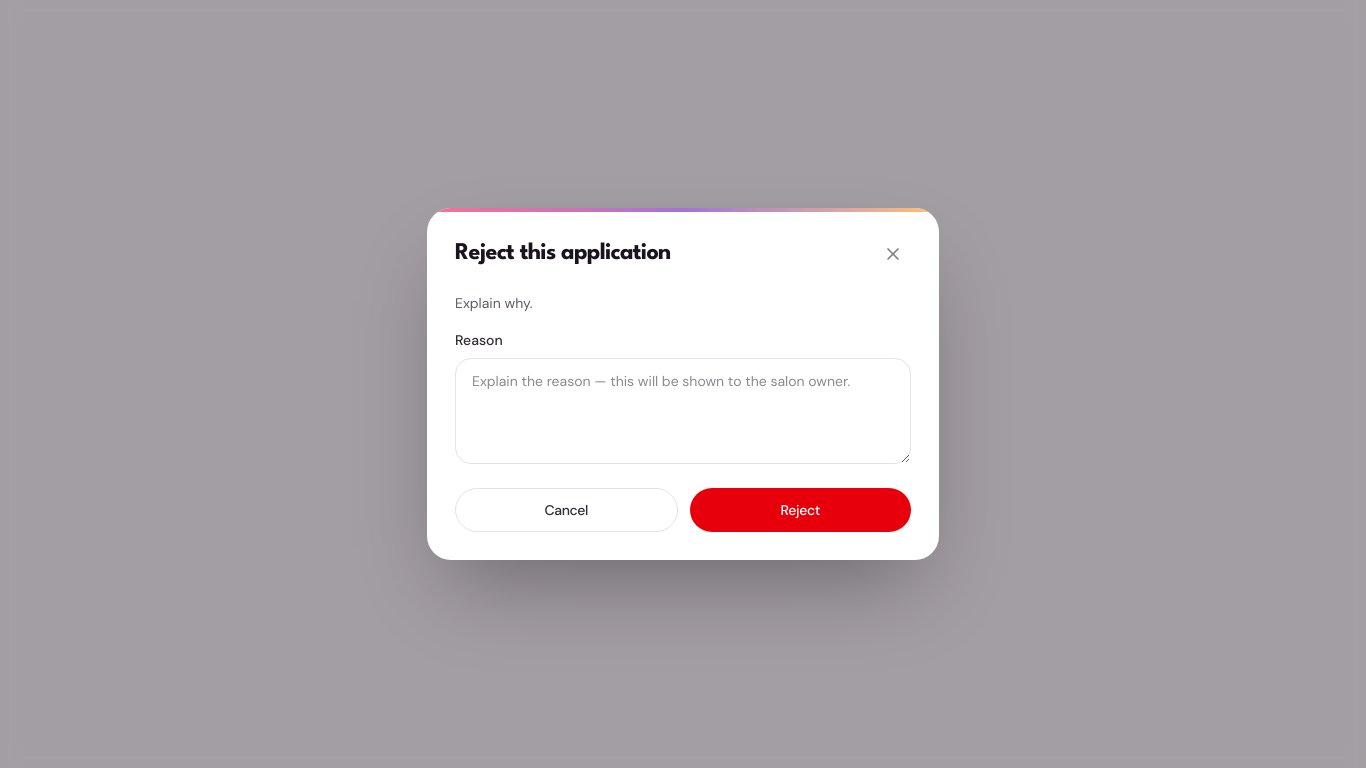
Test case: ReasonModal (rejection/suspension-reason validation) › blocks submission when the reason is too short
The image size is (1366, 768).
In the text box labelled "Reason": point(683, 411) x1=455 y1=358 x2=911 y2=464, type "too short"
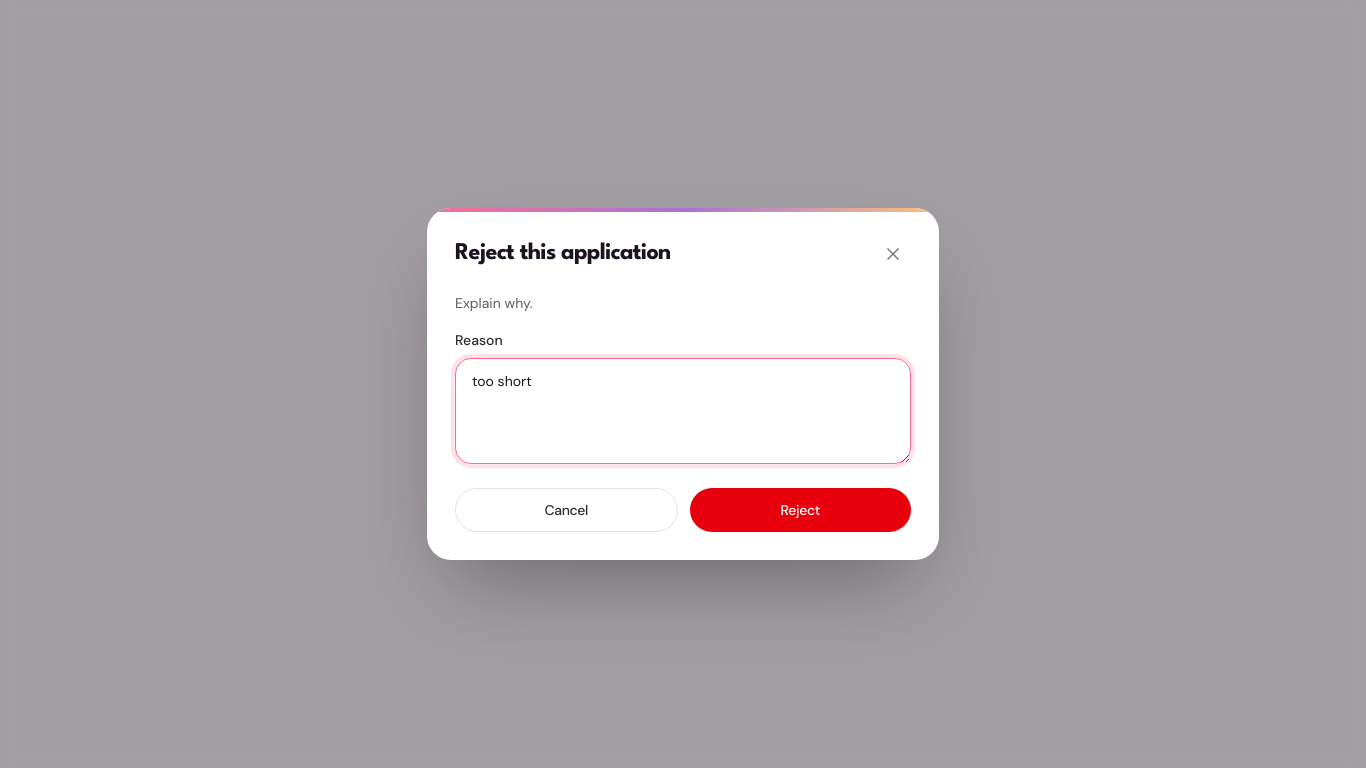
Click the button "Reject": point(800, 510) x1=690 y1=488 x2=911 y2=532
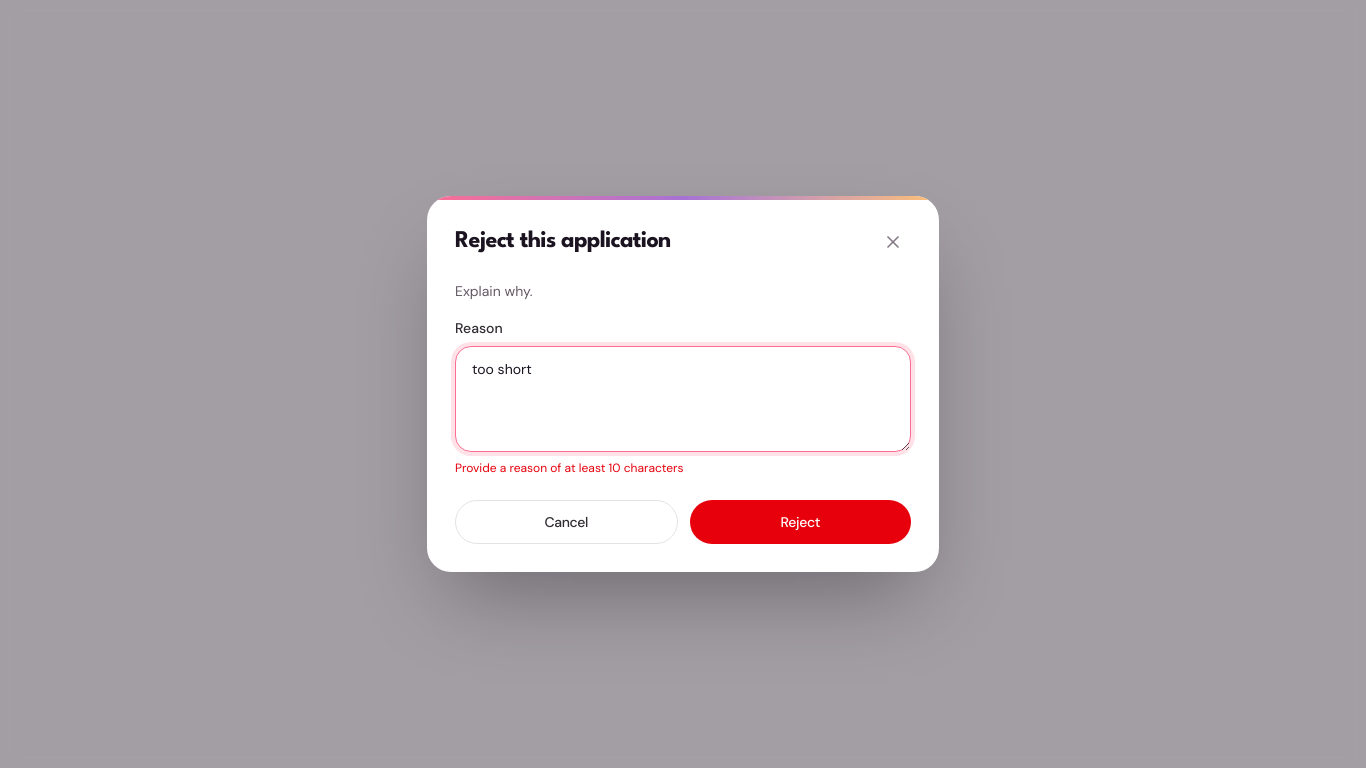
Check: the text "Provide a reason of at least 10 characters" is shown, box x1=455 y1=460 x2=684 y2=476
